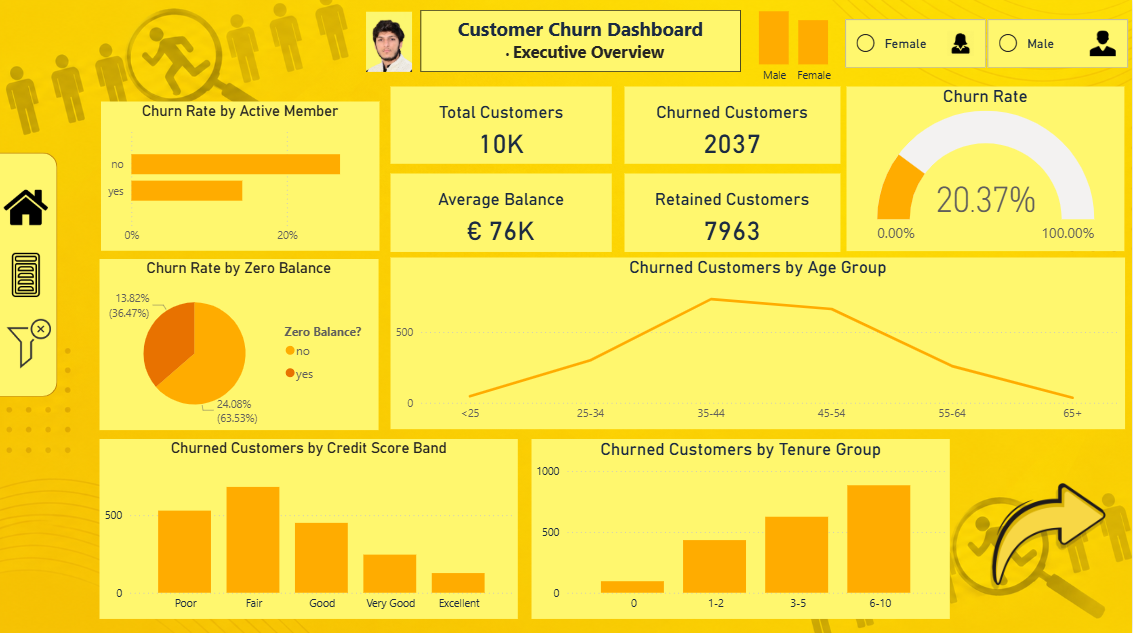

What the dashboard file says about the page in this screenshot:
{"tool":"powerbi","page":{"name":"Page 1","canvas":[1280,720],"ordinal":0},"visuals":[{"type":"image","box":[404,10,74,78],"z":0},{"type":"textbox","box":[476,14,362,70],"z":1000},{"type":"advancedSlicerVisual","fields":{"Values":["customer_churn_processed.gender"]},"box":[950,18.3,330,65],"z":2000},{"type":"cardVisual","fields":{"Data":["customer_churn_processed.Total Customers"]},"box":[442.5,100,250,87.5],"z":3000},{"type":"cardVisual","fields":{"Data":["customer_churn_processed.Churned Customers"]},"box":[706.2,100,243.8,87.5],"z":4000},{"type":"gauge","fields":{"Y":["customer_churn_processed.Churn Rate"]},"box":[958,100,314,186],"z":5000},{"type":"columnChart","fields":{"Category":["customer_churn_processed.gender"],"Y":["CountNonNull(customer_churn_processed.churn)"]},"box":[818,0,160,100],"z":6000},{"type":"columnChart","title":"Churned Customers by Credit Score Band","fields":{"Category":["customer_churn_processed.credit_score_band"],"Y":["customer_churn_processed.Churned Customers"]},"box":[113.6,498.3,472.9,203.4],"z":7000},{"type":"clusteredColumnChart","title":"Churned Customers by Tenure Group","fields":{"Y":["customer_churn_processed.Churned Customers"],"Category":["customer_churn_processed.tenure_group"]},"box":[601.7,498.3,472.9,203.4],"z":8000},{"type":"lineChart","title":"Churned Customers by Age Group","fields":{"Category":["customer_churn_processed.age_group"],"Y":["customer_churn_processed.Churned Customers"]},"box":[442.3,293.8,829.9,193.8],"z":9000},{"type":"cardVisual","fields":{"Data":["customer_churn_processed.Avg Balance"]},"box":[442.5,197.5,250,88.8],"z":10000},{"type":"pieChart","title":"Churn Rate by Zero Balance","fields":{"Category":["customer_churn_processed.has_zero_balance"],"Y":["customer_churn_processed.Churn Rate"]},"box":[113.3,295,315,193.3],"z":11000},{"type":"barChart","title":"Churn Rate by Active Member","fields":{"Category":["customer_churn_processed.active_member"],"Y":["customer_churn_processed.Churn Rate"]},"box":[114.4,117.8,314.4,168.9],"z":12000},{"type":"cardVisual","fields":{"Data":["customer_churn_processed.Retained Customers"]},"box":[706.2,197.5,243.8,88.8],"z":13000},{"type":"shape","box":[0,174,66,276],"z":15000},{"type":"image","box":[1090,516,190,186],"z":17000},{"type":"image","box":[0,275,60,76],"z":18000},{"type":"image","box":[0,198,60,76],"z":19000},{"type":"image","box":[4,352,60,76],"z":20000}]}

Visuals, with their boxes in screenshot pixels (x1, y1, x2, y2), scaled from the page's 1280x720 canvas onto the 1133x633 screenshot:
image: locate(358, 9, 423, 77)
textbox: locate(421, 12, 742, 74)
advancedSlicerVisual - customer_churn_processed.gender: locate(841, 16, 1132, 73)
cardVisual - customer_churn_processed.Total Customers: locate(392, 88, 613, 165)
cardVisual - customer_churn_processed.Churned Customers: locate(625, 88, 841, 165)
gauge - customer_churn_processed.Churn Rate: locate(848, 88, 1126, 251)
columnChart - customer_churn_processed.gender x CountNonNull(customer_churn_processed.churn): locate(724, 0, 866, 88)
"Churned Customers by Credit Score Band" columnChart: locate(101, 438, 519, 617)
"Churned Customers by Tenure Group" clusteredColumnChart: locate(533, 438, 951, 617)
"Churned Customers by Age Group" lineChart: locate(392, 258, 1126, 429)
cardVisual - customer_churn_processed.Avg Balance: locate(392, 174, 613, 252)
"Churn Rate by Zero Balance" pieChart: locate(100, 259, 379, 429)
"Churn Rate by Active Member" barChart: locate(101, 104, 380, 252)
cardVisual - customer_churn_processed.Retained Customers: locate(625, 174, 841, 252)
shape: locate(0, 153, 58, 396)
image: locate(965, 454, 1132, 617)
image: locate(0, 242, 53, 309)
image: locate(0, 174, 53, 241)
image: locate(4, 309, 57, 376)
